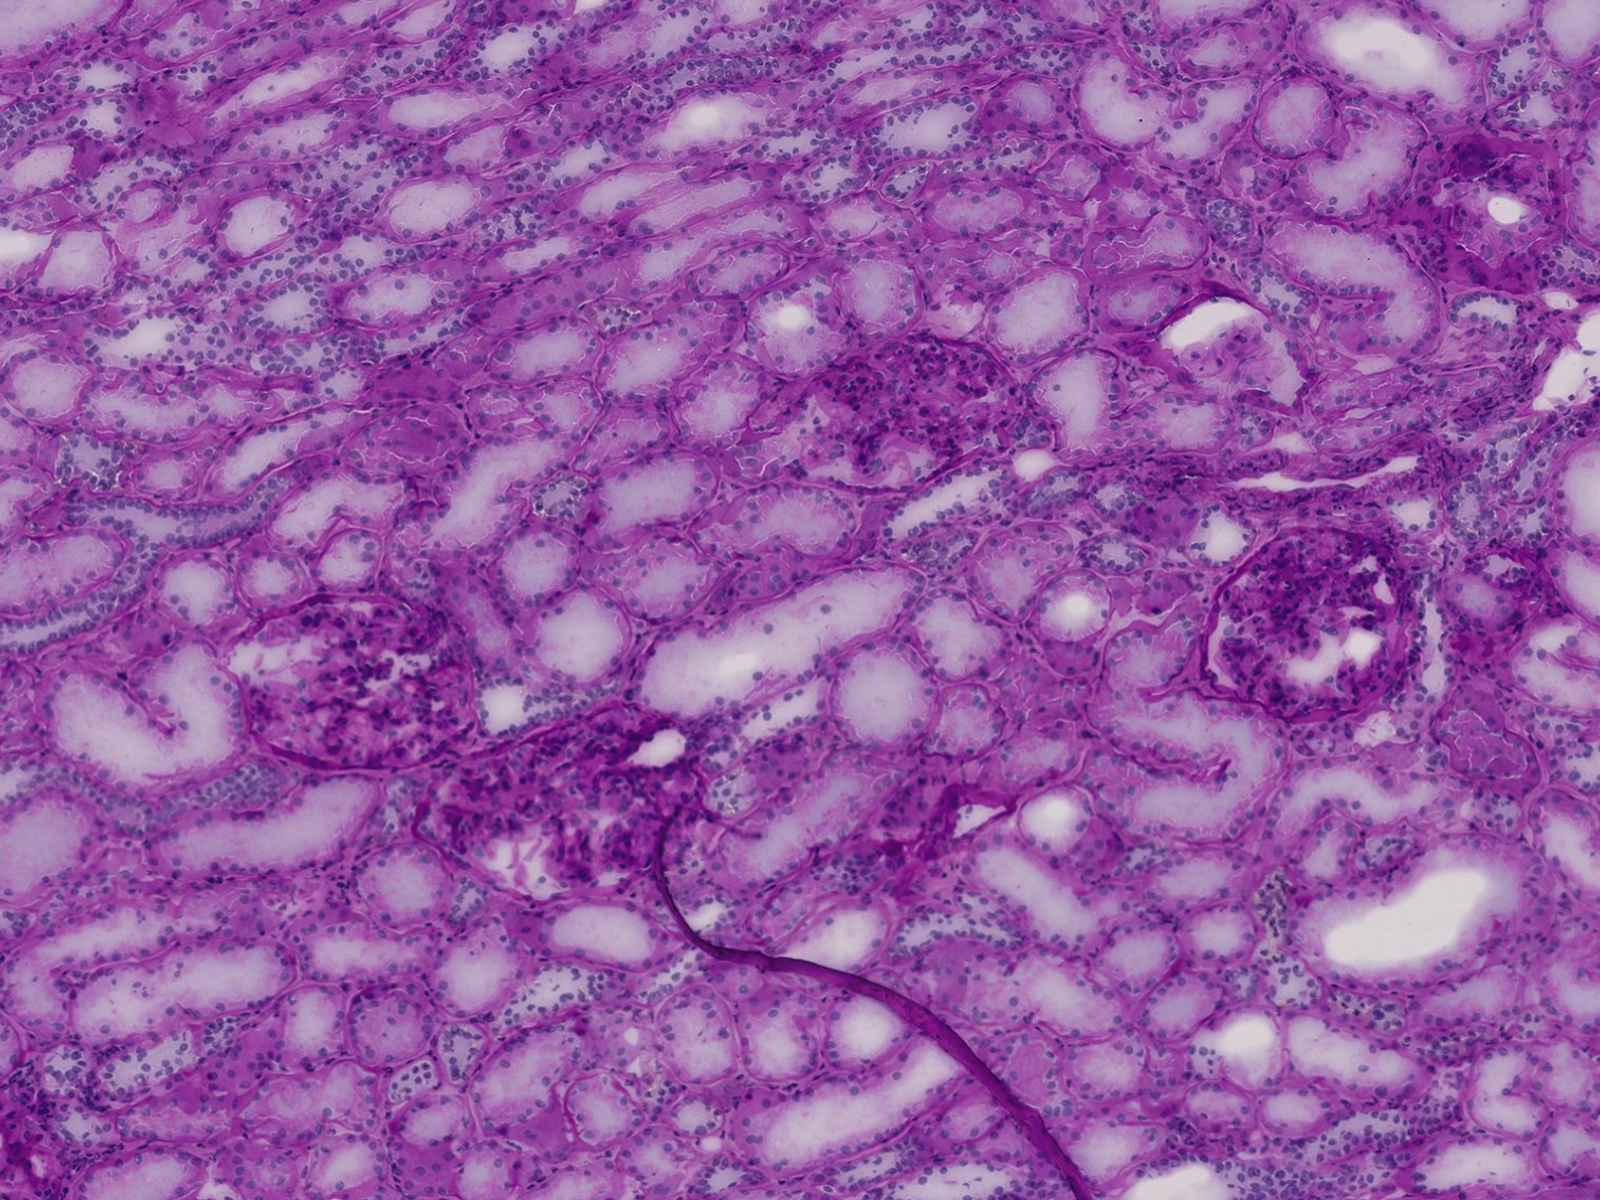Glomeruli: (418, 696, 729, 914), (220, 582, 486, 779), (1201, 514, 1436, 729), (740, 332, 1036, 494)
